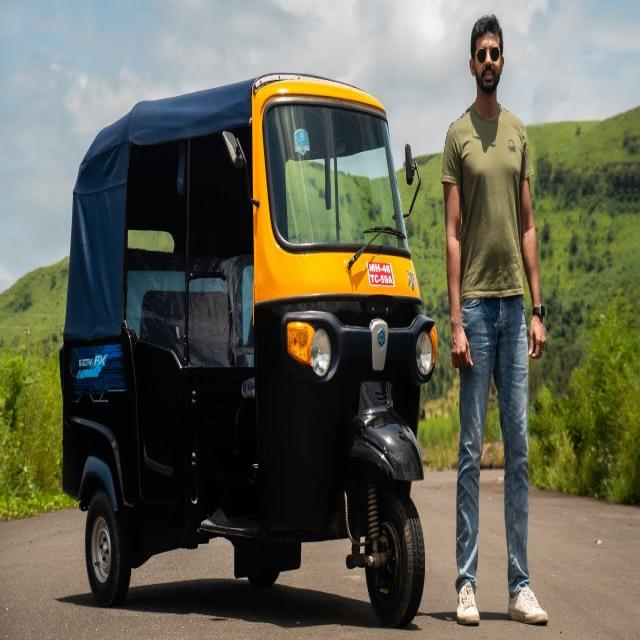autorickshaw: (60, 73, 439, 623)
